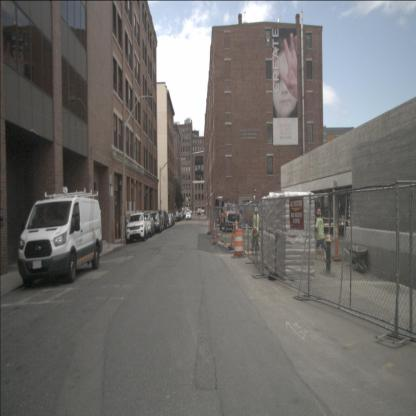movable_object-trafficcone: (230, 219, 245, 260), (332, 221, 340, 261), (228, 222, 235, 250), (212, 219, 217, 244), (208, 214, 212, 234), (116, 223, 119, 238), (116, 219, 117, 237)
vehicle-car: (17, 197, 102, 286), (126, 212, 148, 244), (139, 213, 155, 239), (148, 212, 162, 235), (155, 210, 168, 230), (172, 211, 180, 222), (186, 212, 191, 220), (178, 212, 182, 221)
vehicle-truck: (218, 203, 242, 232)
